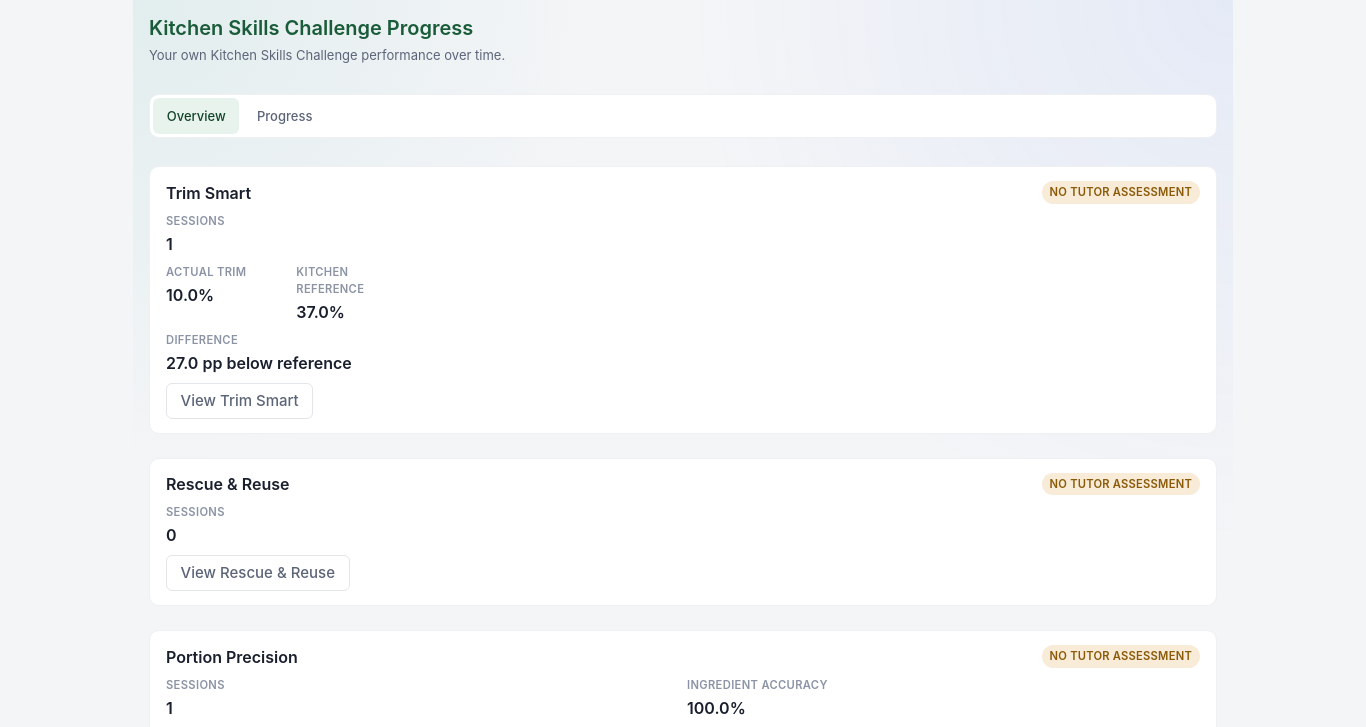
Kitchen Day page split › ignores raw group Kitchen Skills activities on Progress and keeps own JAMIX comparison
This screenshot has width=1366, height=727.
Click the tab with test id "kitchen-day-progress-tab-progress" at [285, 116], box [243,98,326,134]
(page scrolled)
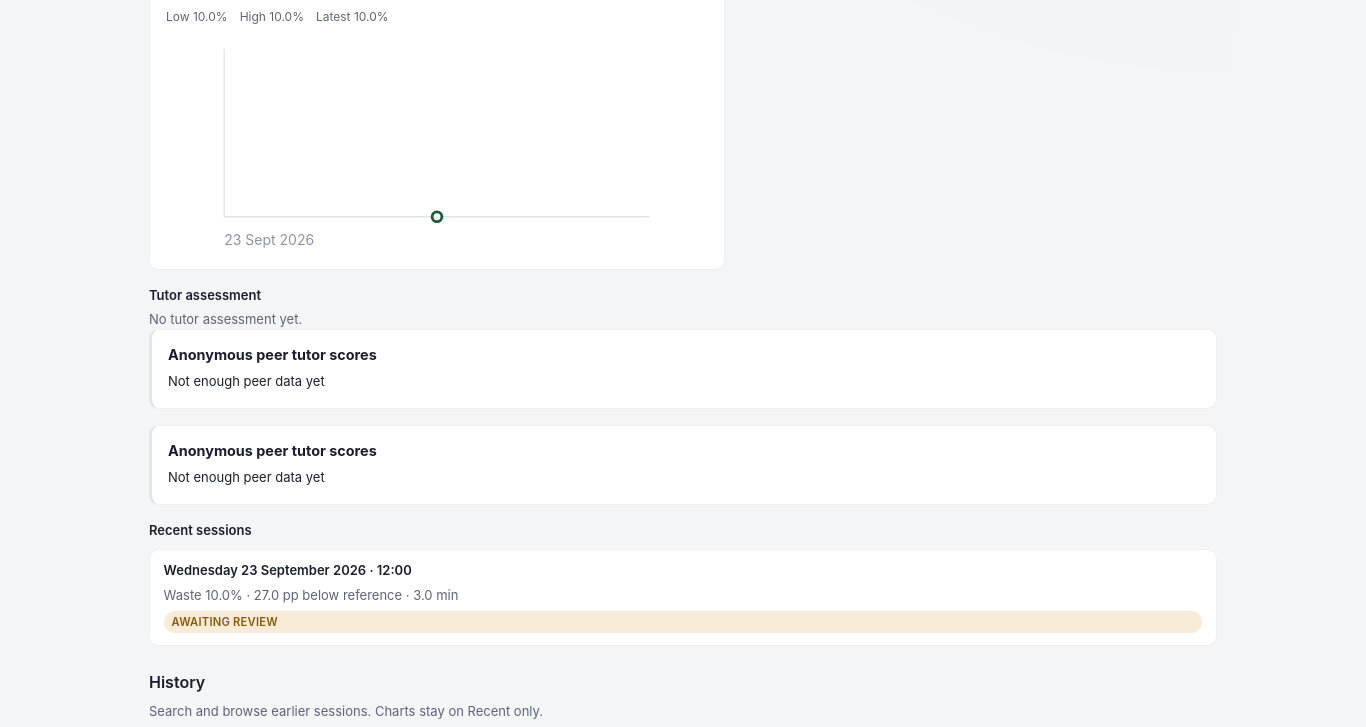
Check: the text with test id "kitchen-day-progress-peer-time-trimSmart-empty" reads "Not enough peer data yet", box [168,373,325,389]
